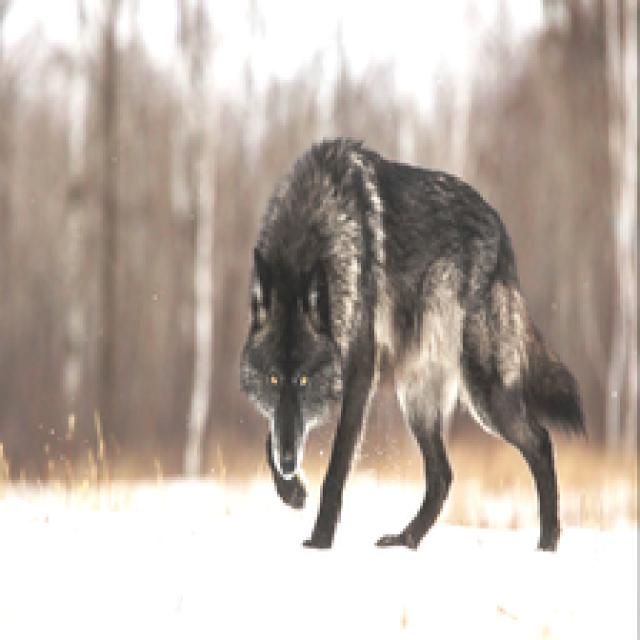wolf: (219, 121, 598, 575)
